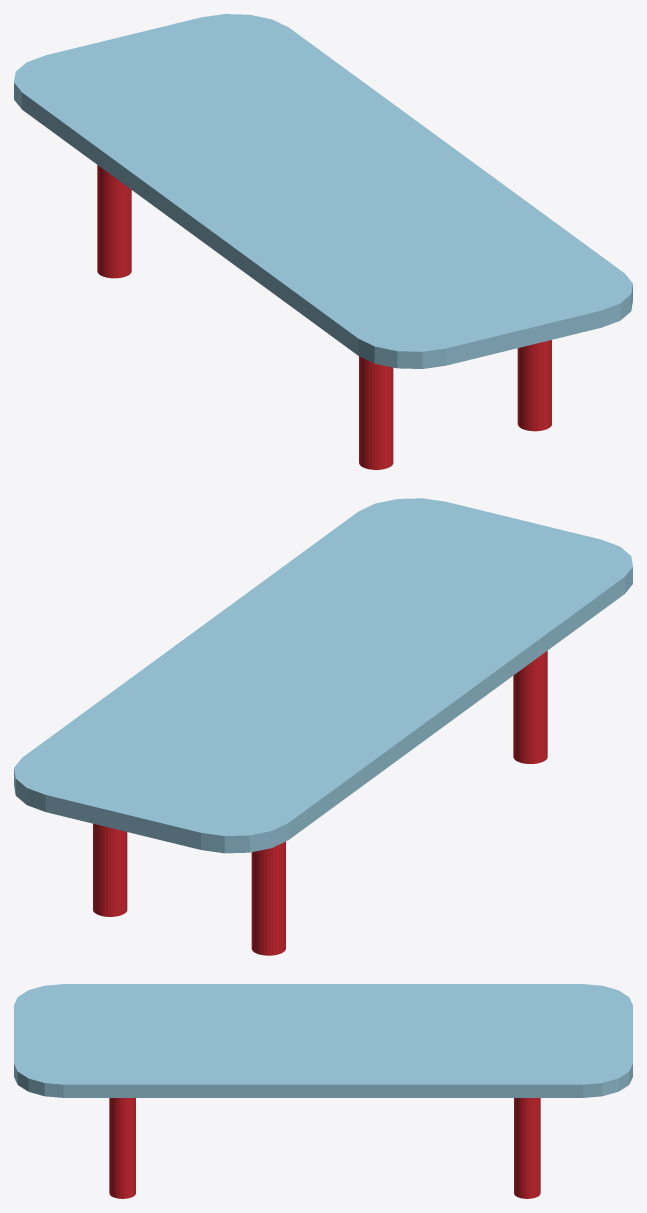
File: Table.fbx
The picture shows the model from 3 angles, top to bottom: view 1: azimuth 30°, elevation 25°; view 2: azimuth 150°, elevation 25°; view 3: azimuth 270°, elevation 25°; orthographic projection. The views are drawn at different scales.
Visible parts, largest first — view 1: Table; view 2: Table; view 3: Table.
Boxes of the visible parts, box(x1,y1,x2,y2) form: Table: box(14, 14, 632, 469); Table: box(14, 498, 632, 955); Table: box(14, 984, 632, 1198).
Bounding box in the file's own units: 395 × 235 × 1028.
